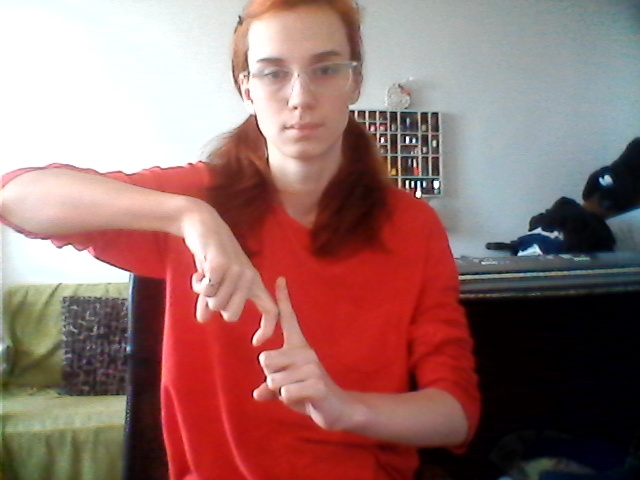k: (165, 193, 347, 437)
